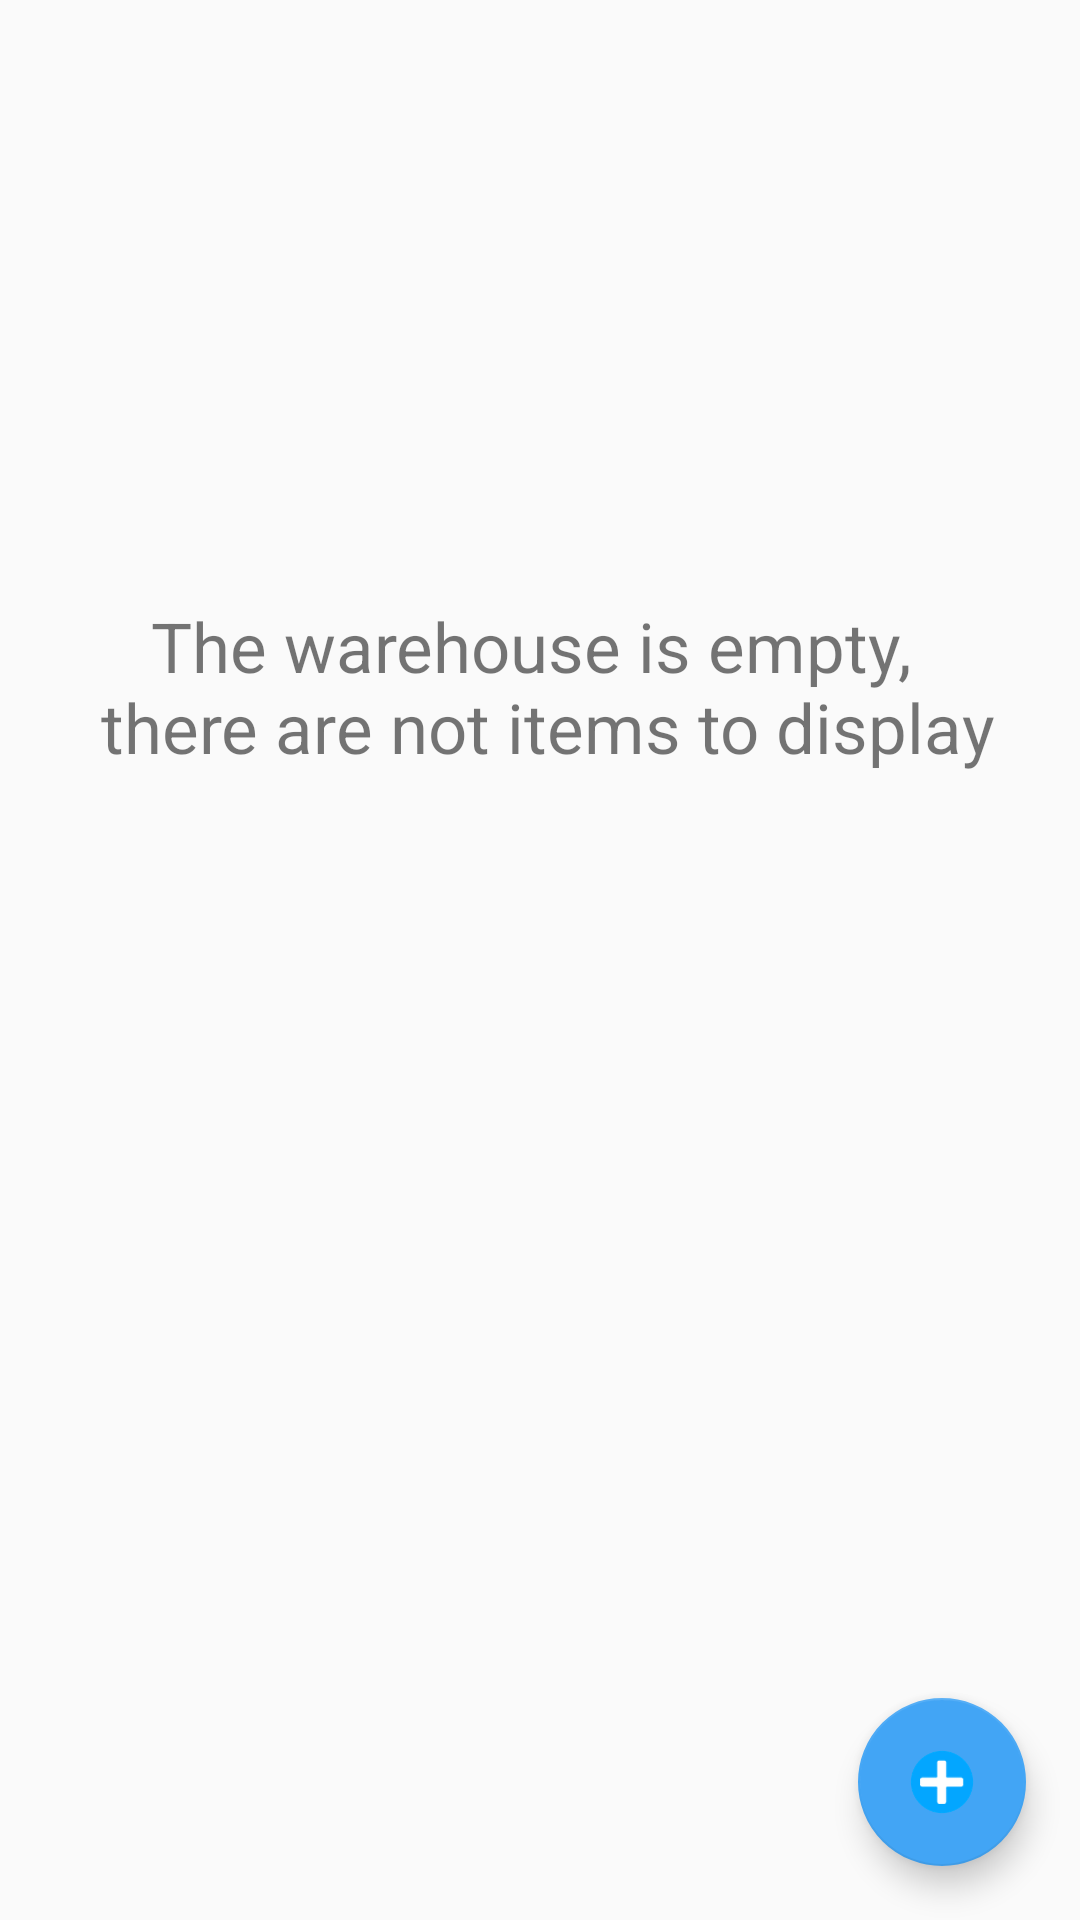

Icons on this 1080 x 1920 Android screen, each with its box as {"x1": x1, "y1": y1, "x2": x2, "y2": y2}:
floating: {"x1": 858, "y1": 1698, "x2": 1026, "y2": 1866}
